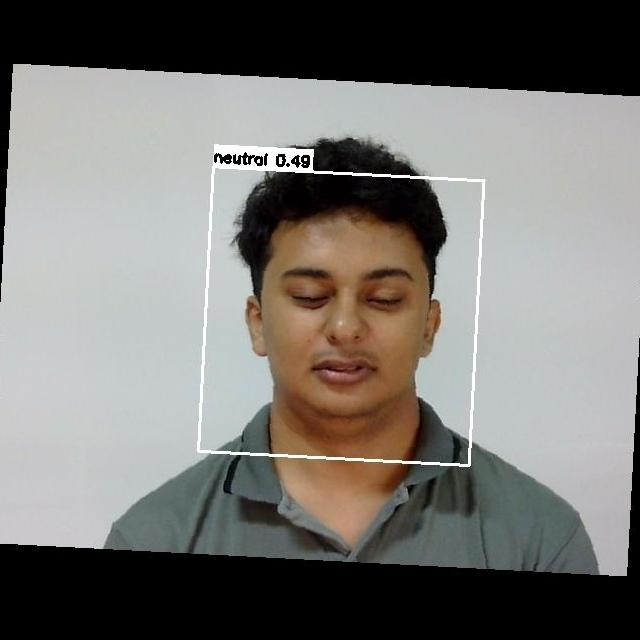Fear: (261, 244, 433, 406)
